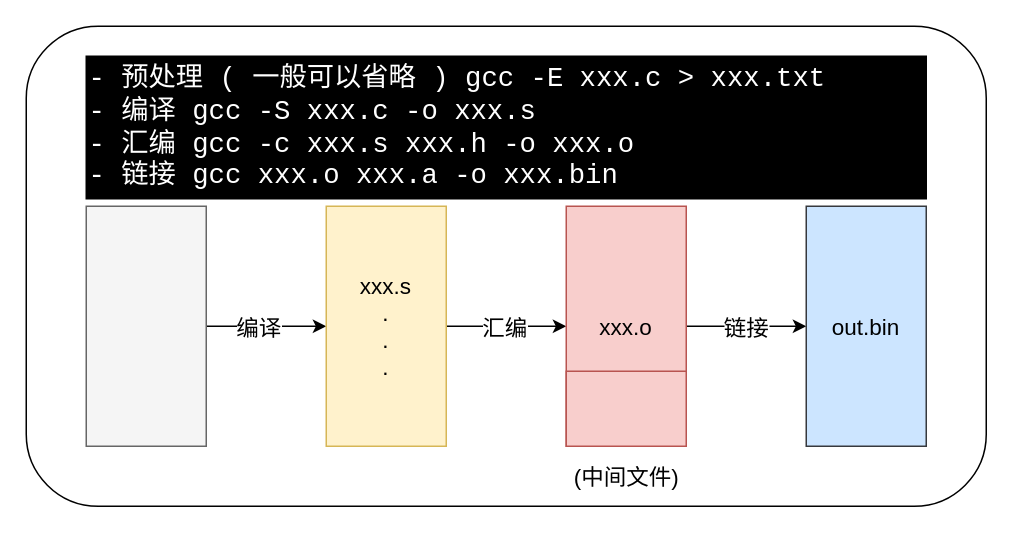
Some shapes in this 1013 by 533 pixel diagram are drawn without their labels. Each missing label, with the centre of its shape:
xxx.a: point 625,408
xxx.c xxx.h . . .: point 145,325
